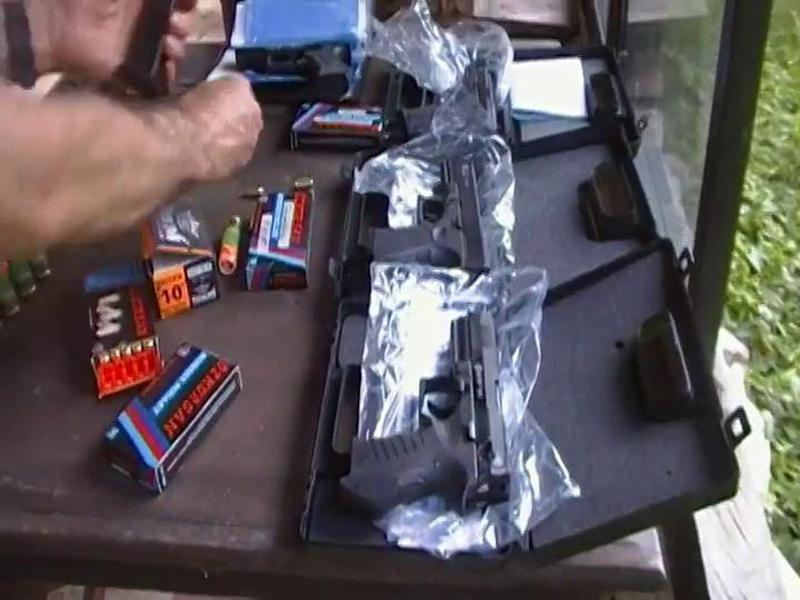Pistola: (324, 304, 534, 524), (359, 153, 504, 291)
